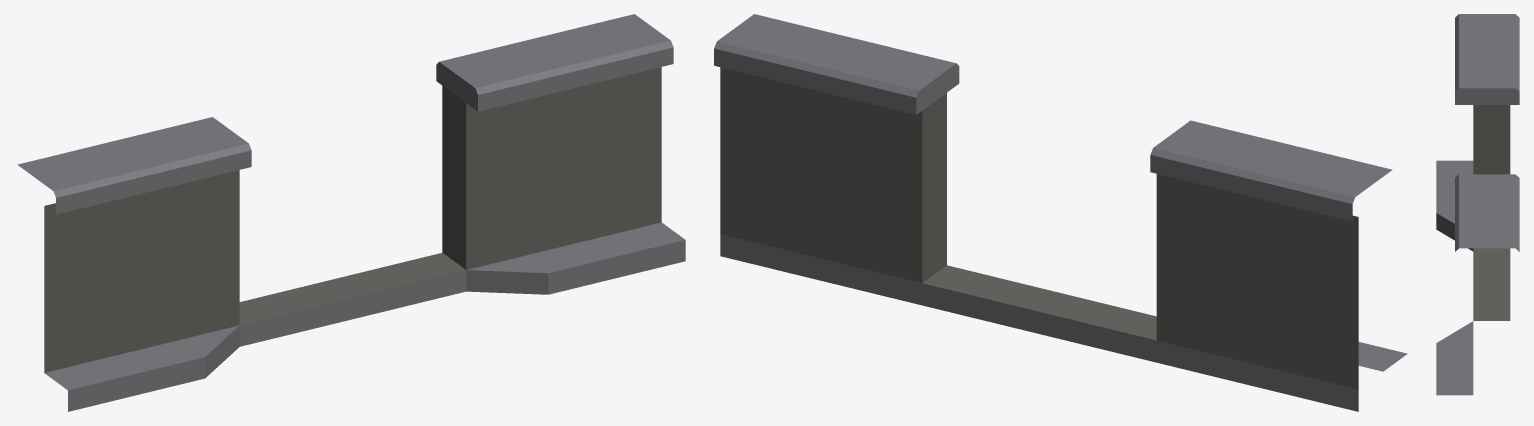
The model's file is SM_Roof_3m_Ladder.gltf.
The picture shows the model from 3 angles, left to right: view 1: azimuth 30°, elevation 25°; view 2: azimuth 150°, elevation 25°; view 3: azimuth 270°, elevation 25°; orthographic projection. The views are drawn at different scales.
Visible parts, largest first — view 1: SM_Roof_3m_Ladder; view 2: SM_Roof_3m_Ladder; view 3: SM_Roof_3m_Ladder.
Part boxes in pixels (x1,y1,x2,y2): SM_Roof_3m_Ladder: [17, 14, 685, 411]; SM_Roof_3m_Ladder: [714, 14, 1407, 411]; SM_Roof_3m_Ladder: [1436, 14, 1519, 395].
Bounding box in the file's own units: 3 × 0.9755 × 0.45.
1 material, 1 textured.
